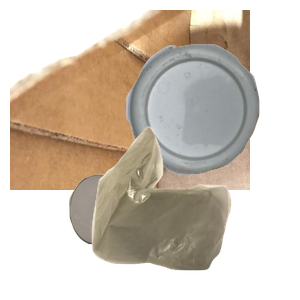cardboard: (10, 10, 250, 190)
glass: (67, 172, 229, 300)
plastic: (124, 42, 300, 210)
trash: (89, 124, 300, 300)
